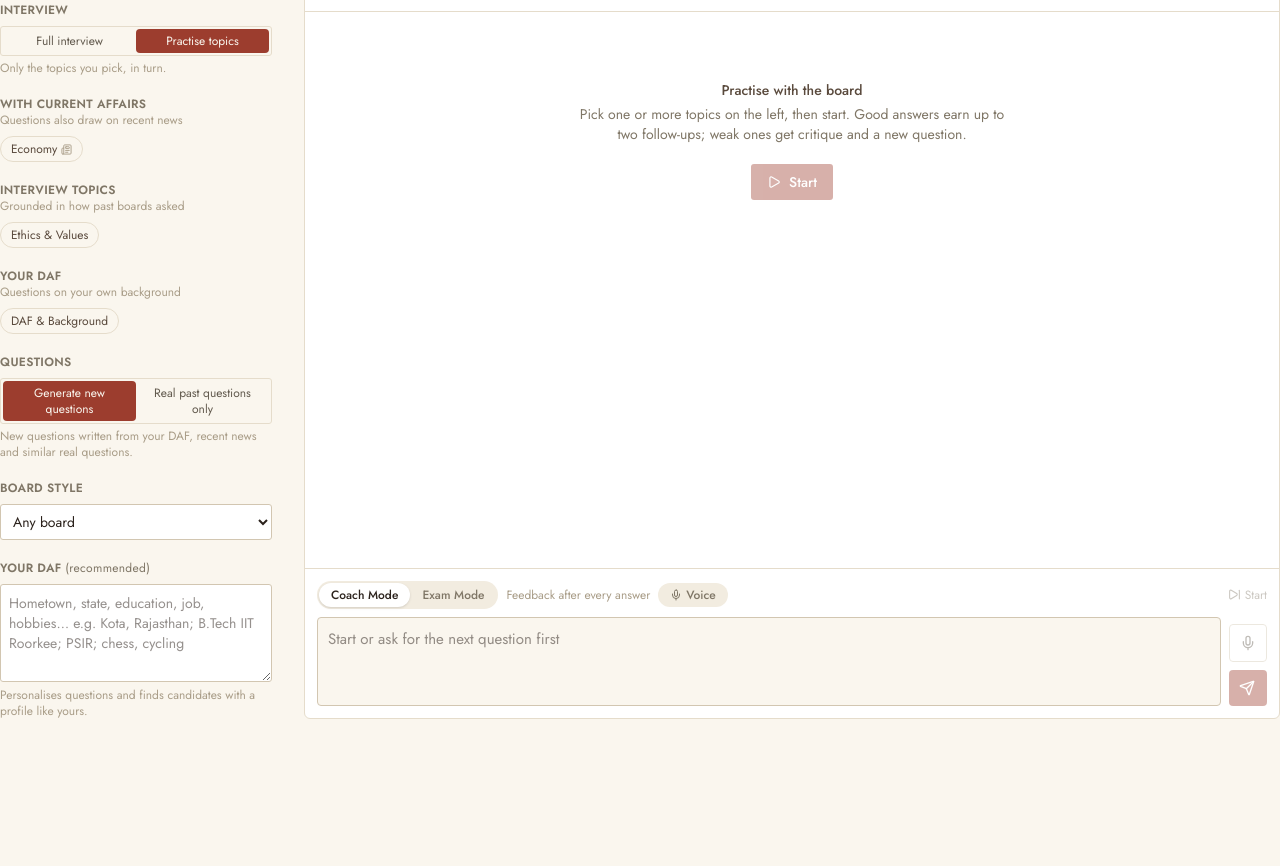
Test: voice mode › reads the question aloud, then listens, and sends the spoken answer as spoken
Later steps or results of the test are not shown.
Click the button "Voice": (693, 594) [658,582,728,606]
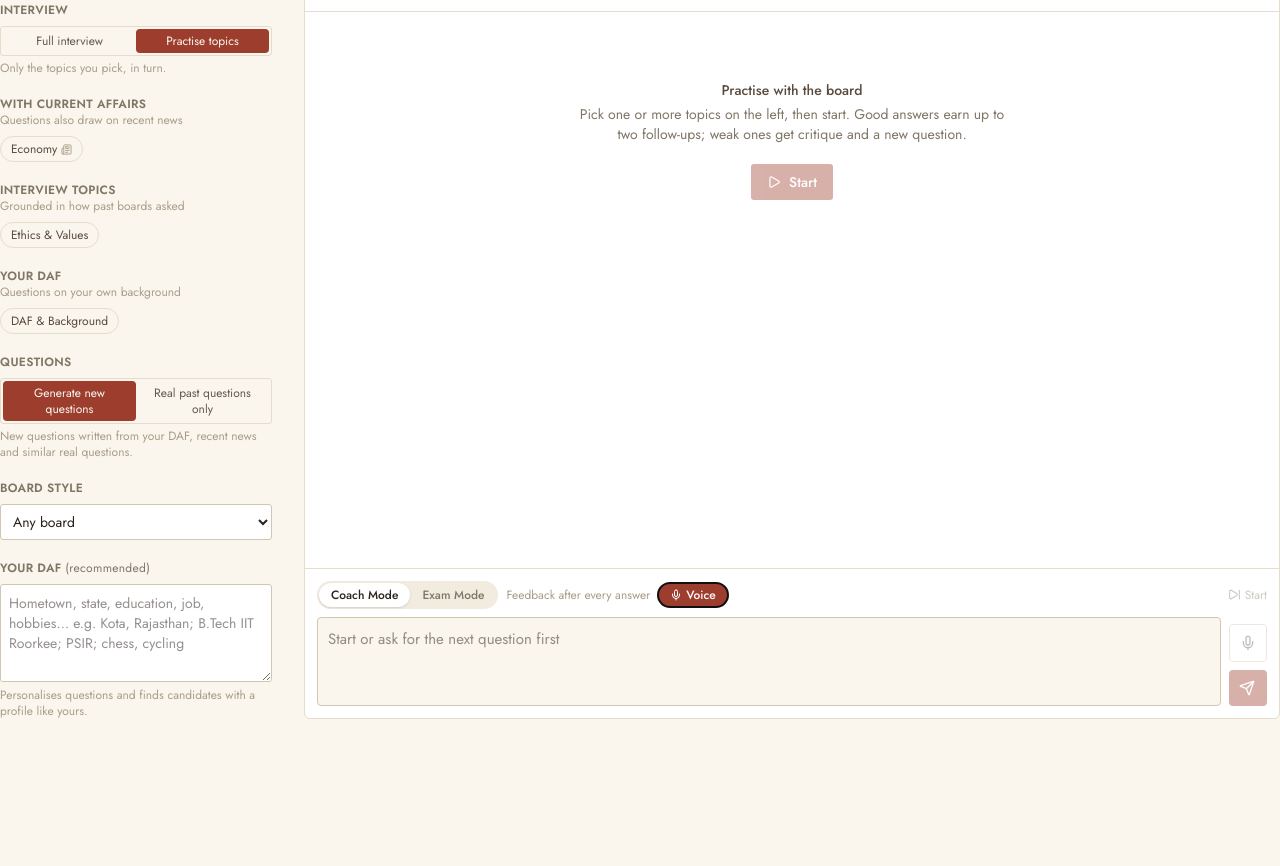
Click the button "Economy": (42, 149) [0,136,83,162]
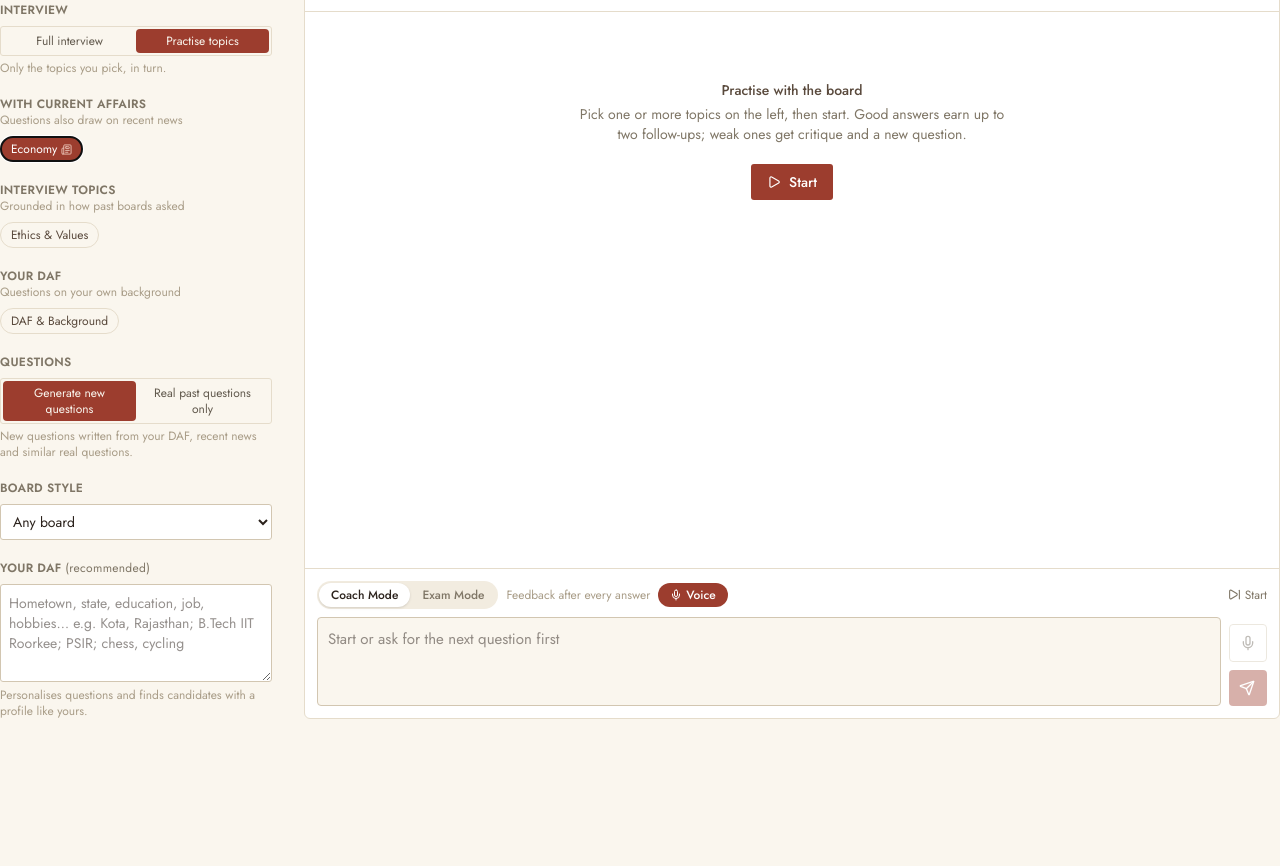
Click the button "Start" below "Practise with the board": (792, 182) [751,164,833,200]
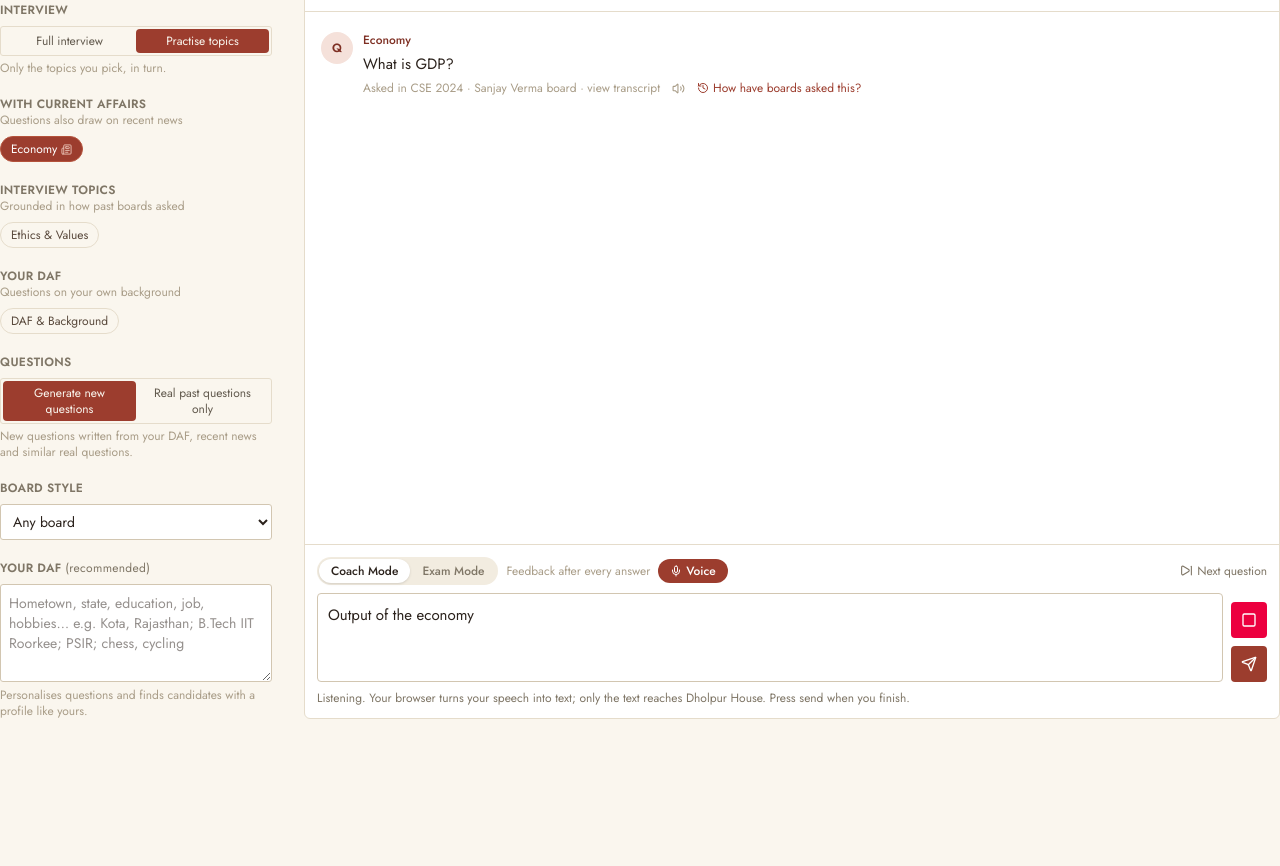
Check: the text "What is GDP?" is shown, box [363,53,454,75]
Check: the text "only the text reaches Dholpur House" is shown, box [317,689,910,707]
Check: the text box named "your answer" holds "Output of the economy", box [317,592,1223,682]
Click the button named "Send answer": (1249, 664) [1231,646,1267,682]
(page scrolled)
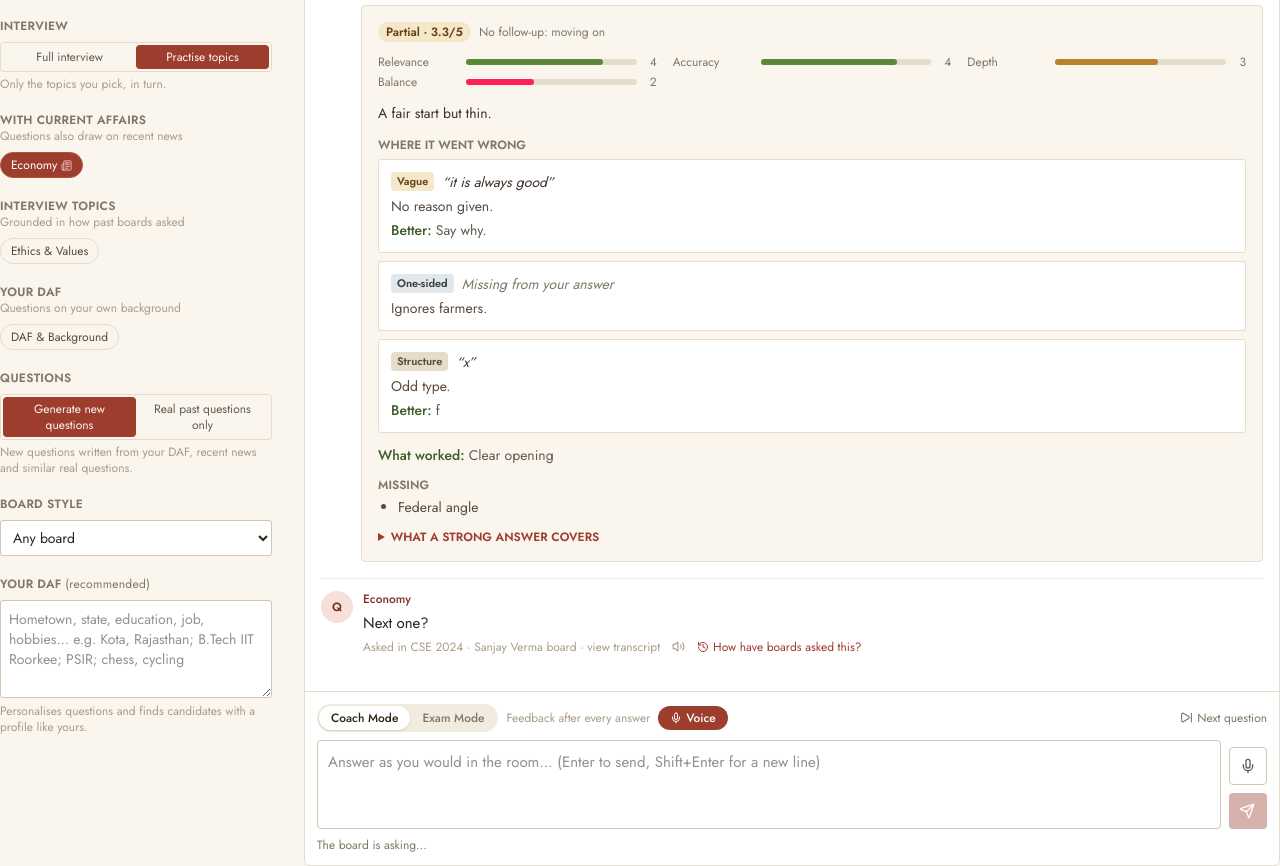
Check: the text "Next one?" is shown, box [363,612,429,634]
